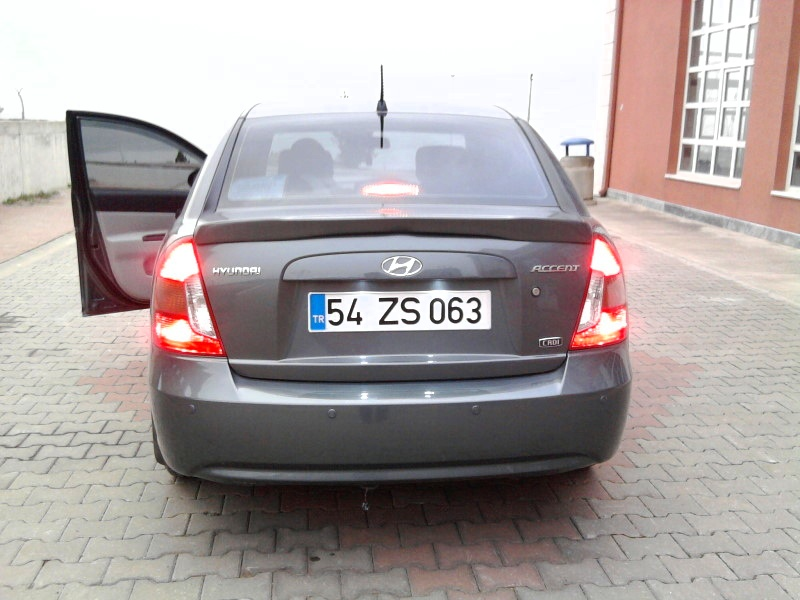plaka: (320, 284, 500, 335)
